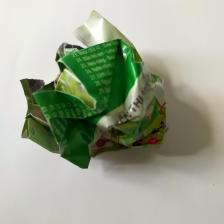Paper: (16, 14, 167, 170)
